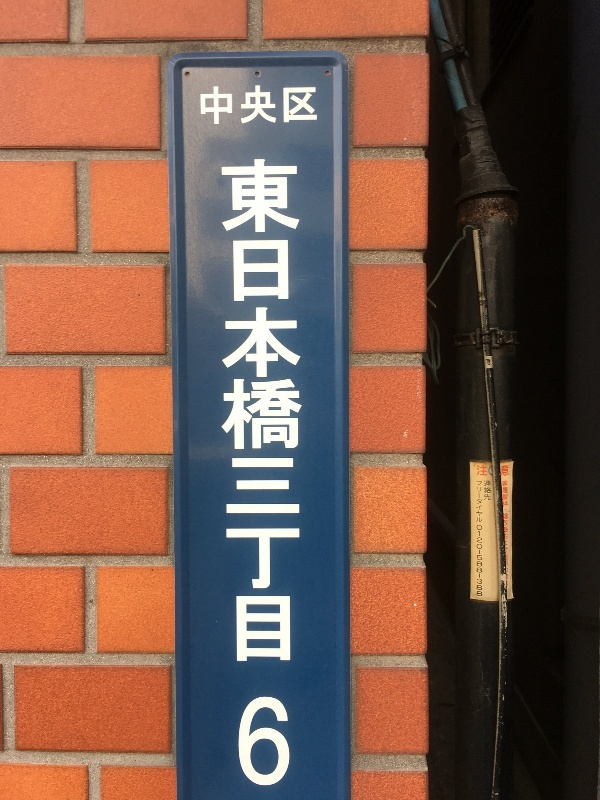text: (225, 160, 240, 789), (241, 160, 256, 789), (257, 160, 272, 789), (273, 160, 288, 789), (289, 160, 304, 789), (221, 160, 224, 789), (305, 160, 306, 789), (209, 86, 224, 126), (225, 86, 240, 126), (241, 86, 256, 126), (257, 86, 272, 126), (273, 86, 288, 126), (289, 86, 304, 126), (305, 86, 318, 126), (476, 481, 480, 597), (501, 480, 512, 511), (505, 540, 512, 586), (201, 86, 208, 126), (503, 513, 512, 540), (484, 481, 496, 501), (481, 481, 483, 597), (501, 465, 512, 476), (481, 465, 487, 476), (477, 465, 480, 476)
